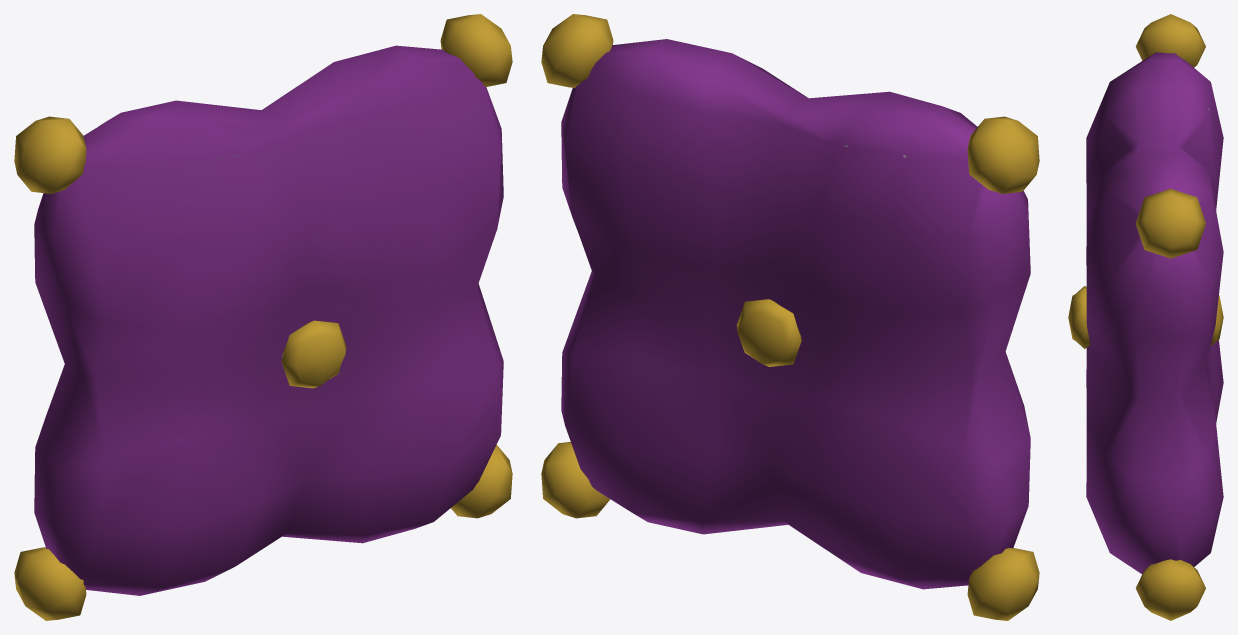
Rendered from purple.fbx.
3 renders of one model, left to right at view 1: azimuth 30°, elevation 25°; view 2: azimuth 150°, elevation 25°; view 3: azimuth 270°, elevation 25°, orthographic. The views are drawn at different scales.
Parts seen in each view (by area): view 1: polySurface8; view 2: polySurface8; view 3: polySurface8.
Boxes of the visible parts, bbox=[...] form: polySurface8: bbox=[14, 14, 512, 620]; polySurface8: bbox=[541, 14, 1039, 620]; polySurface8: bbox=[1068, 14, 1223, 620].
Bounding box in the file's own units: 709 × 689 × 228.
1 material, 1 textured.
